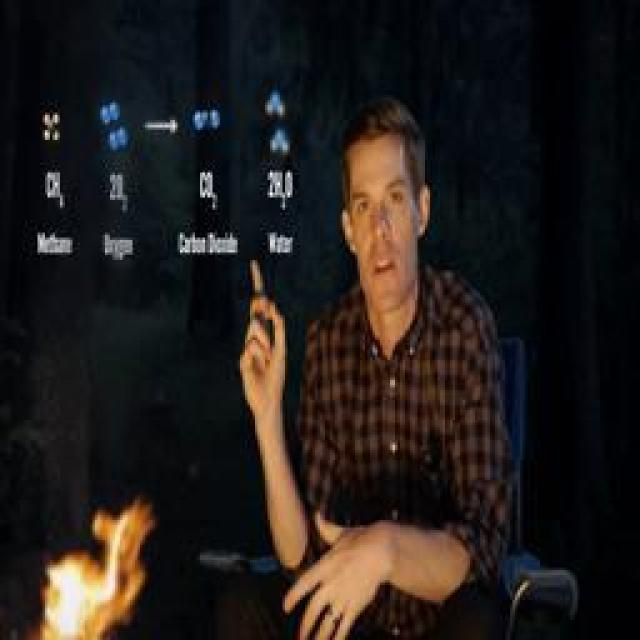Fire: (38, 502, 156, 640)
